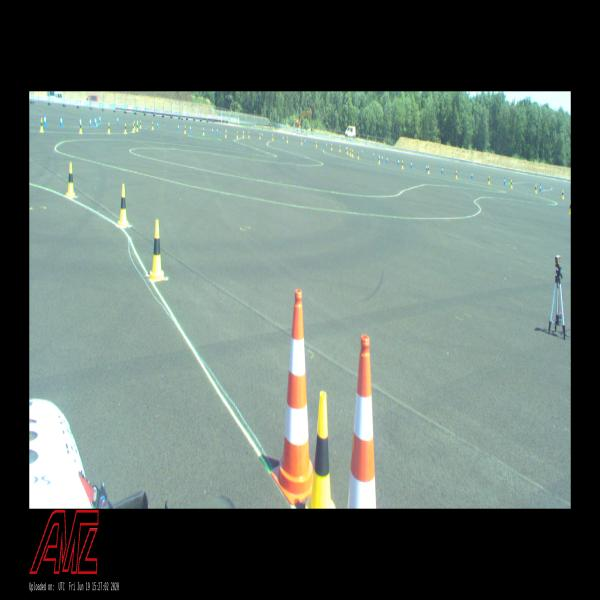blue_cone: (43, 114, 46, 126), (89, 116, 92, 127), (94, 115, 97, 126), (539, 183, 542, 192), (503, 176, 506, 185), (441, 166, 444, 174), (60, 116, 62, 127), (79, 116, 81, 127), (177, 124, 180, 131), (99, 115, 101, 124), (117, 116, 119, 125), (216, 127, 218, 135), (381, 154, 383, 162), (157, 121, 159, 129), (137, 119, 139, 127), (361, 149, 363, 156), (386, 156, 388, 163), (304, 138, 306, 145), (410, 161, 412, 168), (398, 158, 400, 164), (282, 136, 284, 142), (261, 132, 263, 138), (345, 146, 347, 151), (471, 171, 472, 179), (426, 164, 427, 172), (190, 125, 191, 132), (373, 152, 374, 159), (212, 128, 213, 134), (326, 142, 327, 148)
large_orange_cone: (271, 290, 313, 503), (348, 337, 376, 507)
yellow_cone: (305, 395, 336, 508), (149, 220, 165, 280), (118, 184, 129, 227), (66, 164, 76, 198), (79, 120, 83, 134), (40, 118, 44, 131), (107, 122, 111, 134), (124, 123, 128, 134), (534, 184, 538, 194), (568, 201, 571, 214), (136, 121, 139, 132), (151, 120, 154, 130), (510, 179, 513, 189), (133, 120, 136, 130), (455, 170, 458, 179), (401, 160, 404, 169), (132, 124, 135, 132), (427, 166, 430, 174), (562, 189, 564, 200), (378, 154, 380, 164), (488, 176, 490, 184), (331, 144, 333, 152), (202, 127, 204, 135), (184, 126, 186, 134), (140, 120, 142, 128), (248, 131, 250, 138), (351, 150, 353, 157), (242, 131, 244, 138), (259, 132, 261, 139), (339, 145, 341, 152), (357, 151, 359, 158), (272, 134, 274, 140), (349, 149, 351, 155), (346, 149, 348, 154), (287, 136, 288, 144), (225, 130, 226, 138), (237, 131, 238, 138), (301, 138, 302, 145), (316, 141, 317, 148)
